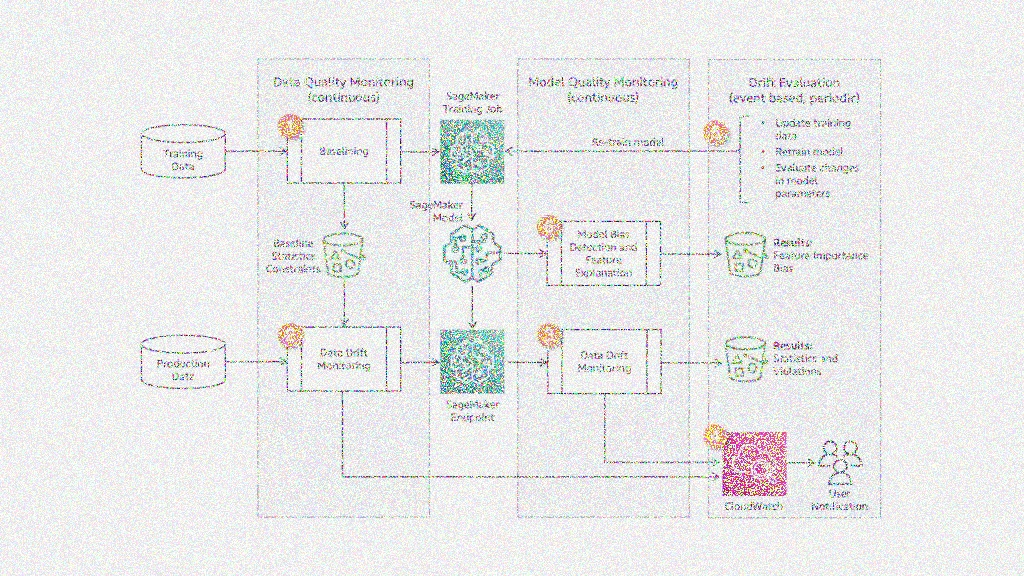Cloud Watch: (718, 424, 795, 502)
RDS: (136, 118, 229, 182)
S3: (319, 229, 372, 282), (721, 333, 773, 385), (721, 227, 771, 281)
Sagemaker: (434, 325, 509, 398), (437, 114, 509, 184), (437, 222, 505, 284)
Users: (815, 431, 867, 485)
